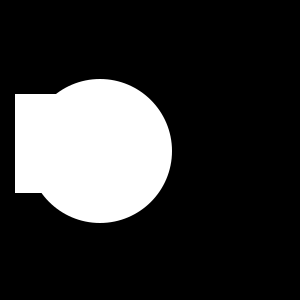circle: (15, 94, 114, 193)
rectangle: (28, 79, 172, 223)
